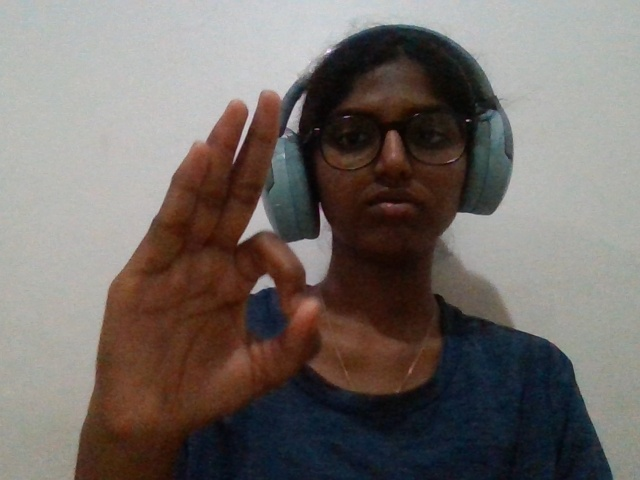F: (74, 65, 348, 480)
